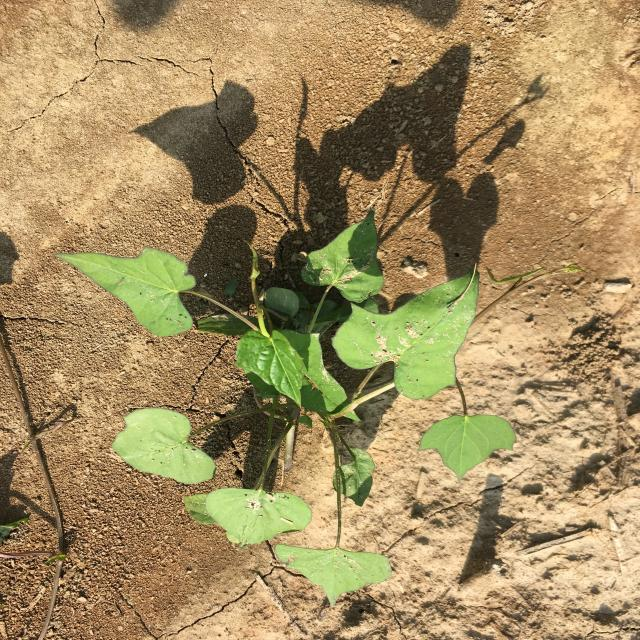MorningGlory: (52, 210, 518, 608)
